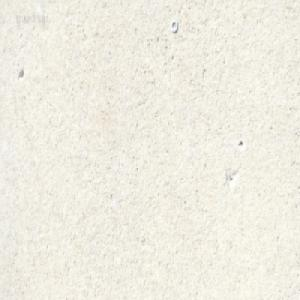Washer: (170, 19, 178, 33)
